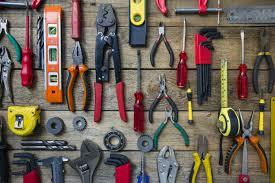wrench: (193, 24, 223, 104), (67, 137, 103, 182), (8, 150, 40, 182), (104, 152, 131, 182)
